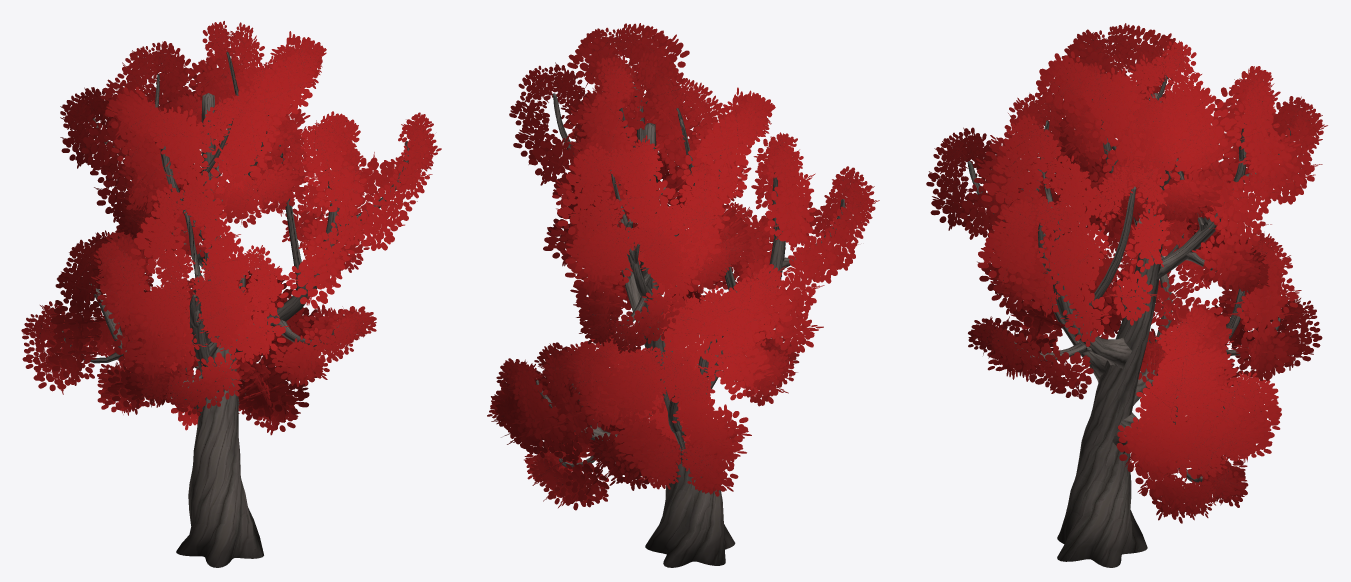
The model's file is twistedtree_3.glb.
3 renders of one model, left to right at view 1: azimuth 30°, elevation 25°; view 2: azimuth 150°, elevation 25°; view 3: azimuth 270°, elevation 25°, orthographic. The views are drawn at different scales.
Visible parts, largest first — view 1: TwistedTree_3; view 2: TwistedTree_3; view 3: TwistedTree_3.
Part boxes in pixels (left/top/right/bottom): TwistedTree_3: left=21, top=21, right=441, bottom=567; TwistedTree_3: left=487, top=23, right=879, bottom=567; TwistedTree_3: left=926, top=23, right=1327, bottom=567.
Bounding box in the file's own units: 11.36 × 16.07 × 11.51.
Materials: 2 (2 with a texture image).
